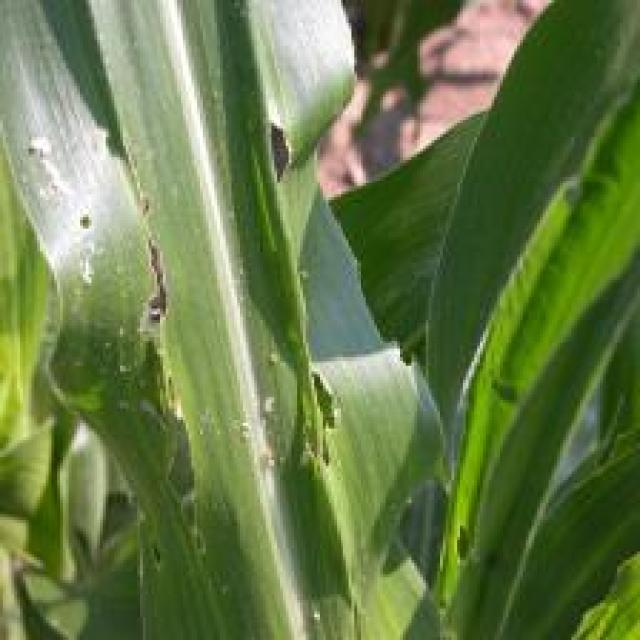Plaga: (263, 385, 280, 420), (264, 444, 278, 472), (268, 350, 283, 367)
